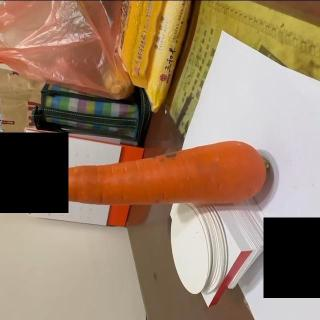carrot: (48, 139, 268, 206)
